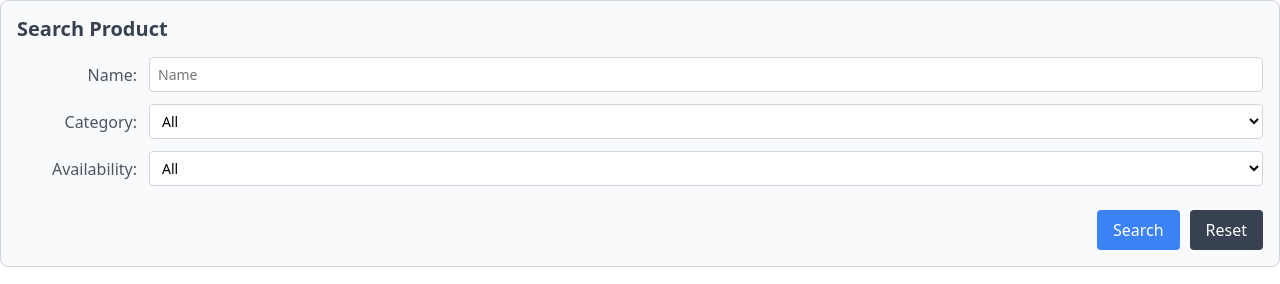
Test: SearchForm Component › Resets all fields when 'Reset' button is clicked
This screenshot has width=1280, height=284.
Type "Laptop" into the field with placeholder "Name".
click(706, 74); type("Laptop")  # box [149, 57, 1263, 92]
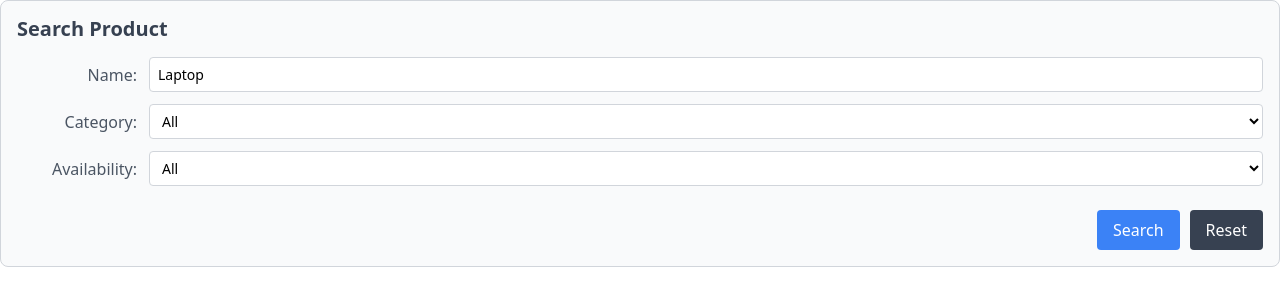
Select "Electronics" in the dropdown labelled "Category:" at (706, 122), box [149, 104, 1263, 139]
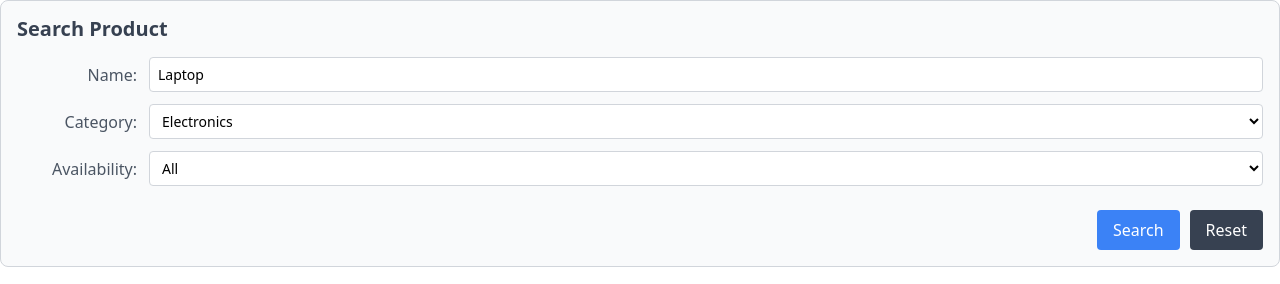
Select "In stock" in the dropdown labelled "Availability:" at (706, 168), box [149, 151, 1263, 186]
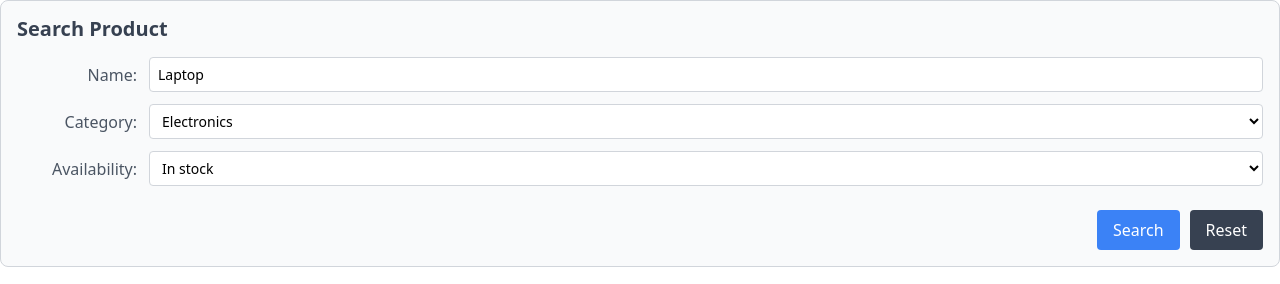
Click the button "Reset".
click(1226, 230)  # box [1190, 210, 1263, 250]
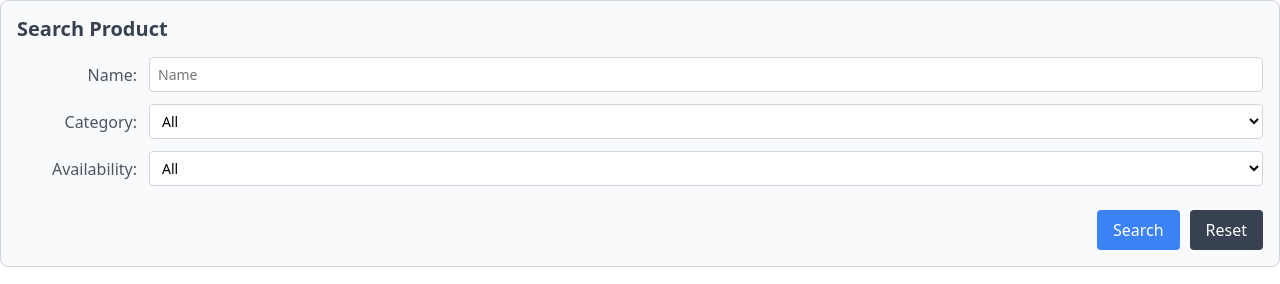
Expected: the field with placeholder "Name" is empty, [149, 57, 1263, 92]
